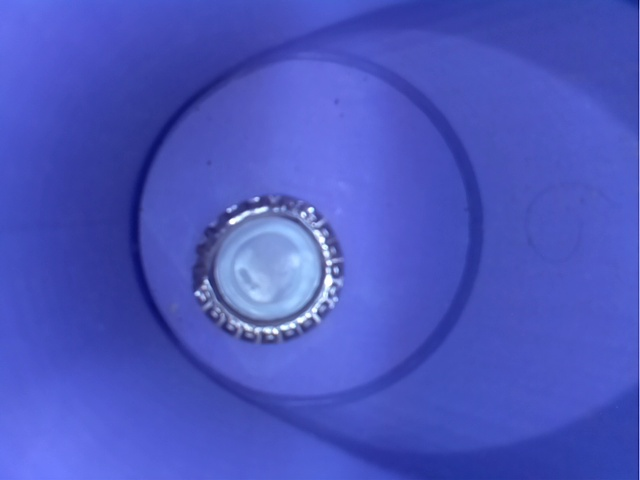capsule: (168, 180, 367, 345)
